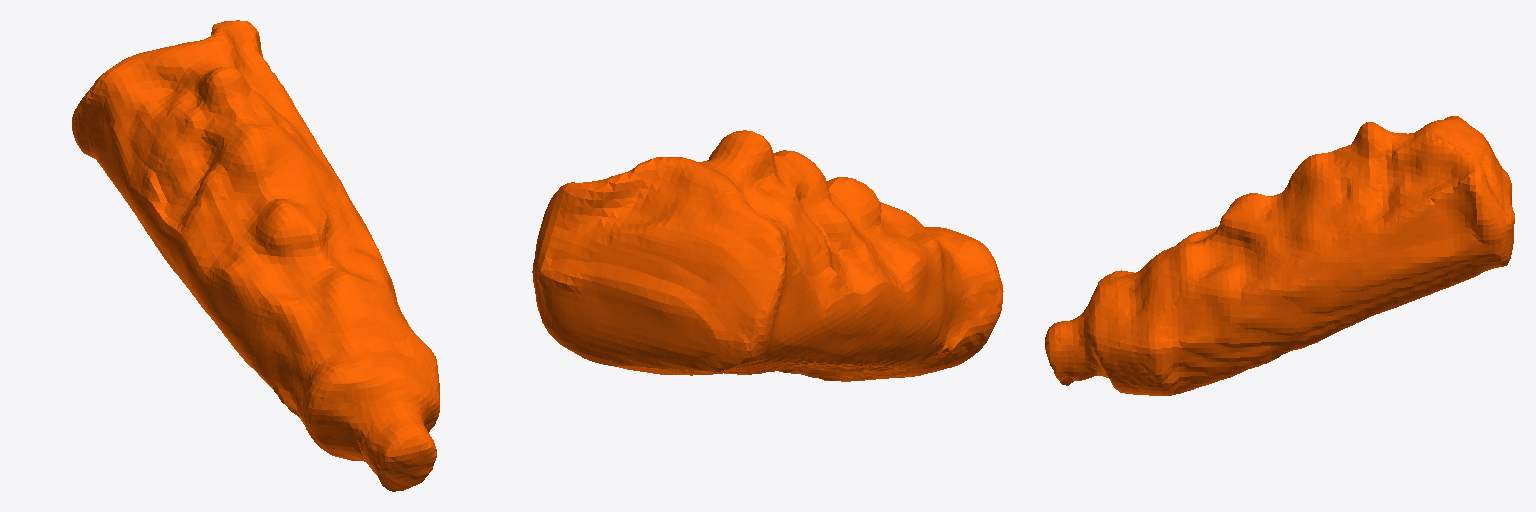
URDF robot description (20b7fc070):
<?xml version="1.0" ?>
<robot name="20b7fc070">
   <material name="obj_color">
      <color rgba="1.0 0.423529411765 0.0392156862745 1.0"/>
   </material>
   <link name="top">
      <inertial>
         <origin rpy="0.0007029059803738871 0.004028612741184196 0.00419964690243143" xyz="0.001851187146777603 0.01834691587611068 0.0008795054118616542"/>
         <mass value="0.9480662990533777"/>
         <inertia ixx="0.00403836108158719" ixy="4.442864193908295e-06" ixz="4.631005674945149e-05" iyy="0.00133915797935224" iyz="-0.001346550148706622" izz="0.003553646563050083"/>
      </inertial>
      <visual>
         <origin rpy="0 0 0" xyz="0 0 0"/>
         <geometry>
            <mesh filename="top_watertight_tiny.stl" scale="1 1 1"/>
         </geometry>
         <material name="obj_color"/>
      </visual>
      <collision>
         <origin rpy="0 0 0" xyz="0 0 0"/>
         <geometry>
            <mesh filename="top_watertight_tiny.obj" scale="1 1 1"/>
         </geometry>
      </collision>
   </link>
   <link name="bottom">
      <inertial>
         <origin rpy="1.633333333199431e-08 1.633333333199431e-08 1.633333333362855e-08" xyz="0.3464080000000008 0.3464080000000008 0.3464080000000008"/>
         <mass value="0.0009800000000000017"/>
         <inertia ixx="1.633333333253906e-08" ixy="5.447480642029219e-19" ixz="5.447480642029219e-19" iyy="1.633333333253906e-08" iyz="5.447480642029219e-19" izz="1.633333333253906e-08"/>
      </inertial>
      <visual>
         <origin rpy="0 0 0" xyz="0 0 0"/>
         <geometry>
            <mesh filename="bottom_watertight_tiny.stl" scale="1 1 1"/>
         </geometry>
         <material name="obj_color"/>
      </visual>
   </link>
   <joint name="rotation" type="revolute">
      <origin xyz="0 0 0"/>
      <axis xyz="0 0 -1"/>
      <parent link="bottom"/>
      <child link="top"/>
      <dynamics damping="1.0" friction="1.0"/>
      <limit effort="0.1" velocity="0.1" lower="0" upper="0.001"/>
   </joint>
</robot>

--- Facts derived from the render (not from the file) ---
Views: 3 orthographic renders of the robot side by side, from view 1: azimuth 30°, elevation 25°; view 2: azimuth 150°, elevation 25°; view 3: azimuth 270°, elevation 25°.
Model 20b7fc070 with 2 links and 1 joints (1 revolute), rooted at bottom, posed all joints at 0.
Links seen in each view (by area): view 1: top; view 2: top; view 3: top.
Boxes of the visible links, x1,y1,x2,y2 form: top: (72, 20, 439, 491); top: (532, 130, 1003, 381); top: (1045, 116, 1514, 395).
Bounding box of the posed robot: 0.0953 × 0.2395 × 0.1446 m (x, y, z).
1 mesh visuals loaded from 2 distinct referenced files (1 binary STL); not drawn: 1 (reference not matched to a file when rendering).